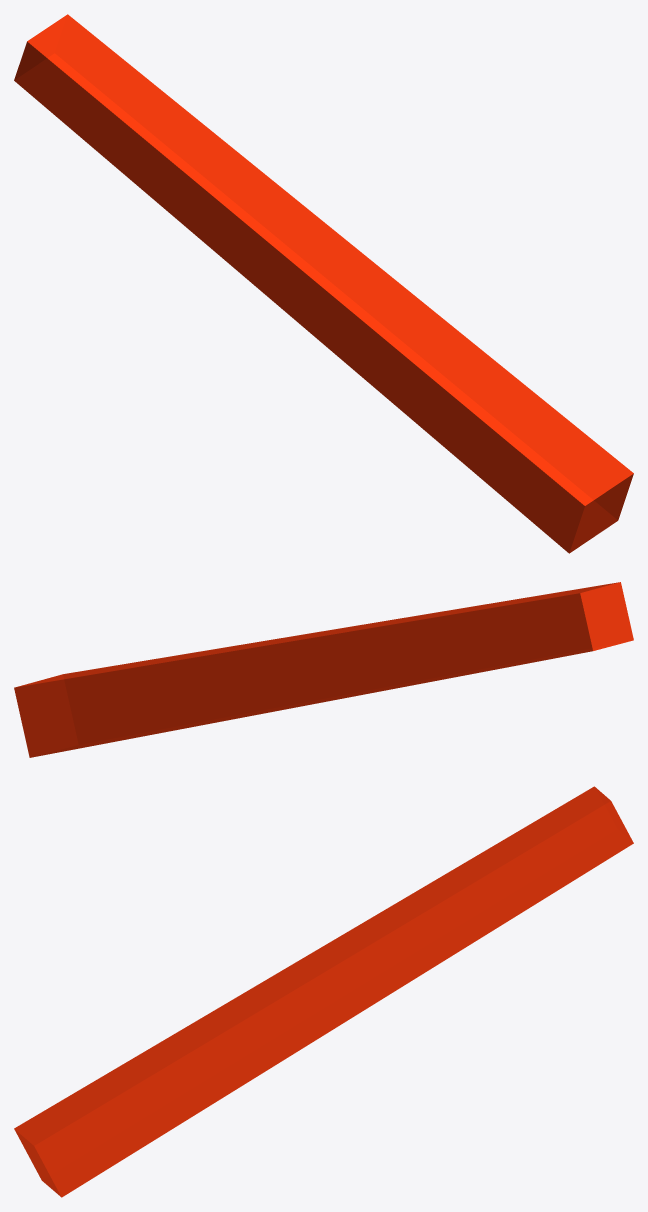
Rendered from Event_421556567_EBrechit_8.fbx.
3 views of the same model, one above another, from view 1: azimuth 30°, elevation 25°; view 2: azimuth 210°, elevation 25°; view 3: azimuth 270°, elevation 25° (orthographic). The views are drawn at different scales.
Parts seen in each view (by area): view 1: Model; view 2: Model; view 3: Model.
Part boxes in pixels (left/top/right/bottom): Model: left=14, top=14, right=633, bottom=553; Model: left=14, top=582, right=633, bottom=757; Model: left=14, top=786, right=633, bottom=1197.
Bounding box in the file's own units: 0.3094 × 0.3547 × 0.6563.
